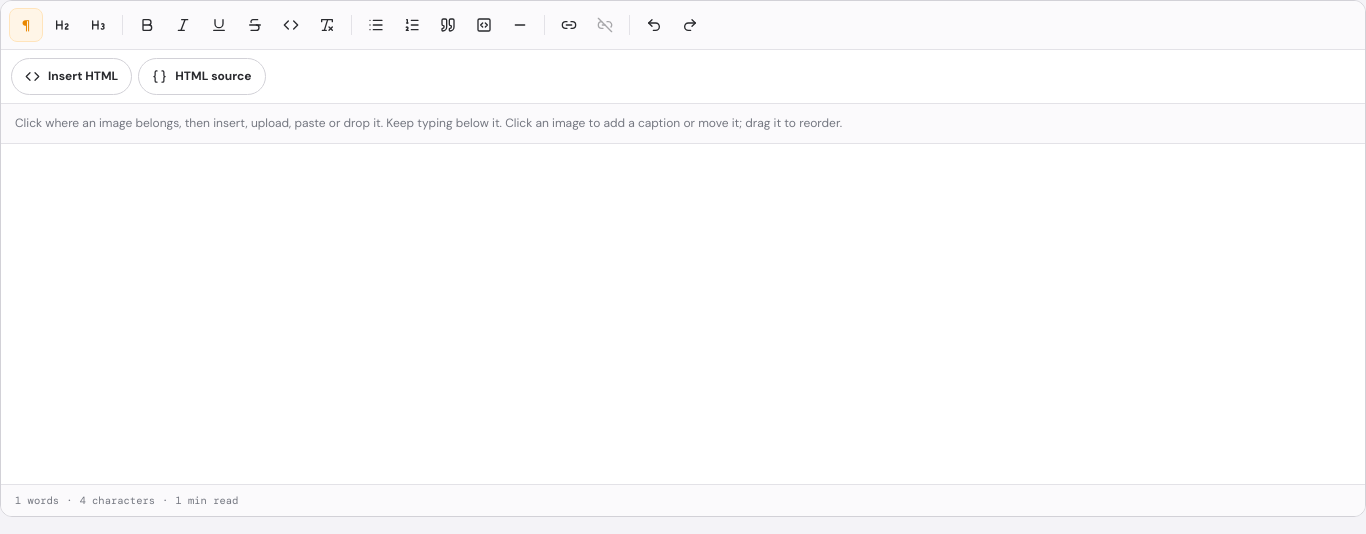
Test case: RichTextEditor › reports an empty string when only an empty paragraph is left
The image size is (1366, 534).
Clear the field named "Article content" at (683, 314), box [1,144,1365,484]
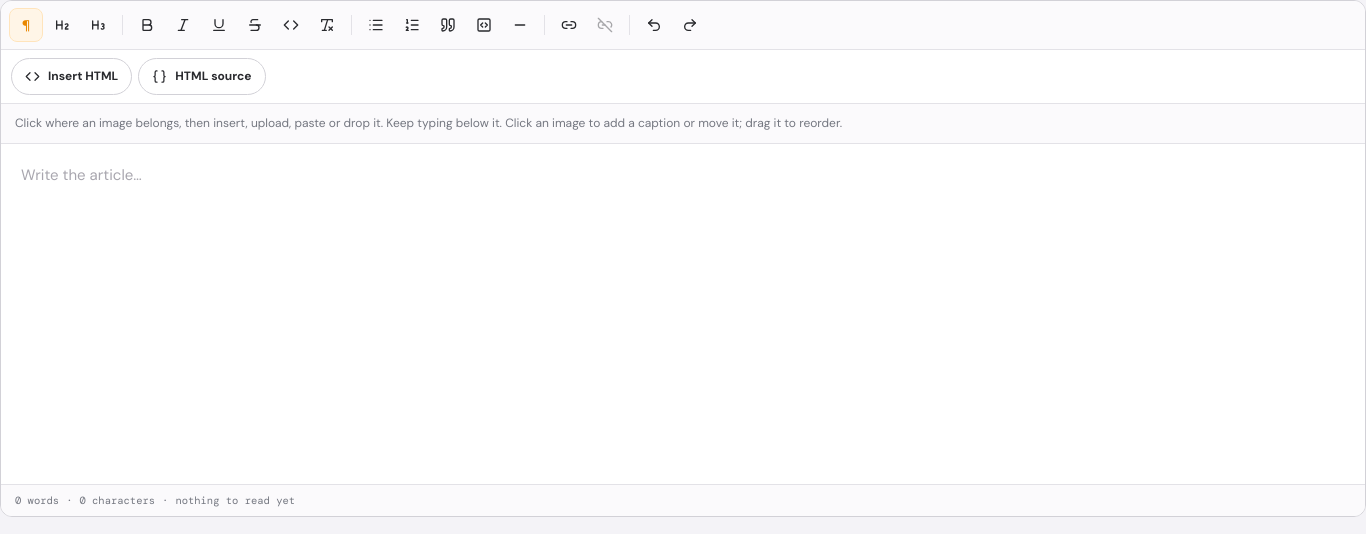
Expected: the text "nothing to read yet" is shown, [175,494,295,507]
